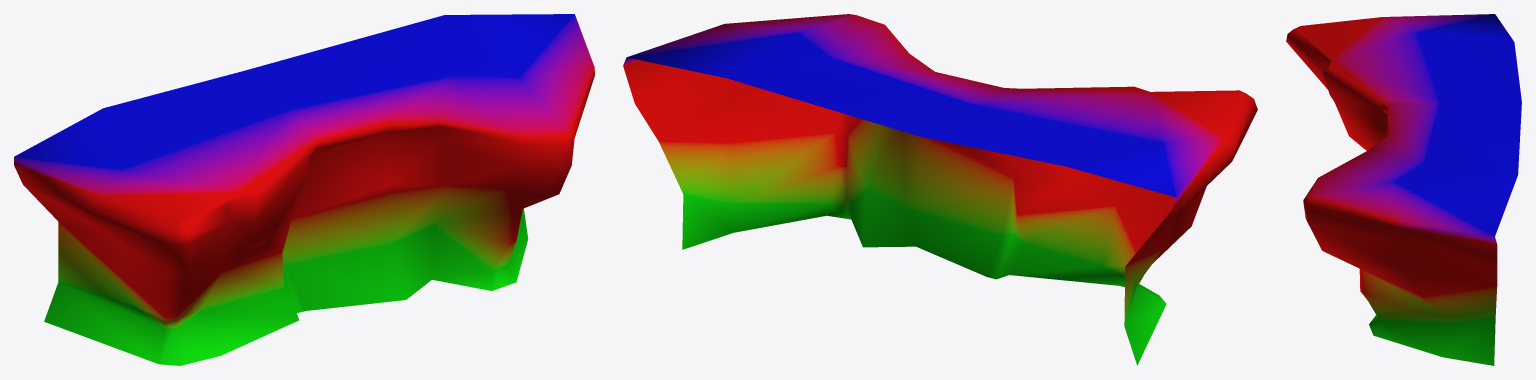
Rendered from M_Rock_Cliff_D.FBX.
3 renders of one model, left to right at view 1: azimuth 30°, elevation 25°; view 2: azimuth 150°, elevation 25°; view 3: azimuth 270°, elevation 25°, orthographic. The views are drawn at different scales.
Visible parts, largest first — view 1: Rock_Cliff_D; view 2: Rock_Cliff_D; view 3: Rock_Cliff_D.
Boxes of the visible parts, <box> form: Rock_Cliff_D: <box>14,14,594,365</box>; Rock_Cliff_D: <box>623,14,1257,365</box>; Rock_Cliff_D: <box>1286,14,1521,365</box>.
Size of the model in its own units: 1314 by 447 by 573.
